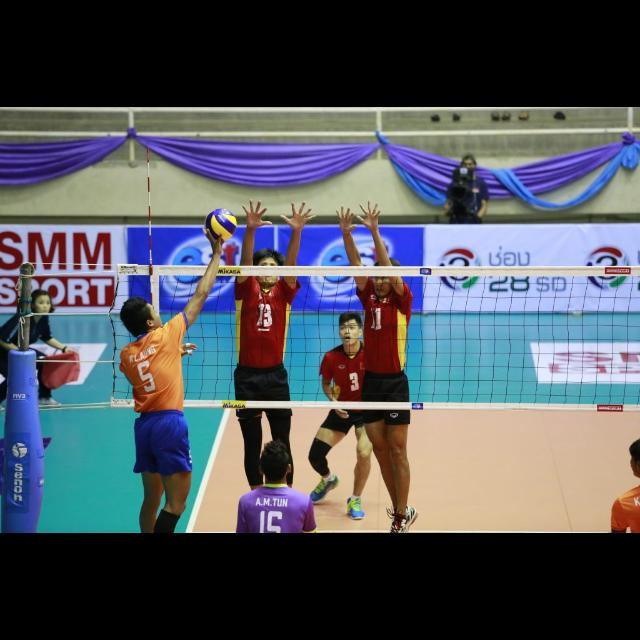head: (120, 301, 164, 339), (258, 444, 292, 481), (374, 258, 404, 298), (254, 252, 282, 286), (338, 313, 364, 347), (30, 288, 52, 318), (462, 156, 476, 174)
person: (228, 196, 320, 518), (304, 308, 382, 524), (0, 288, 76, 412), (442, 153, 492, 294)
